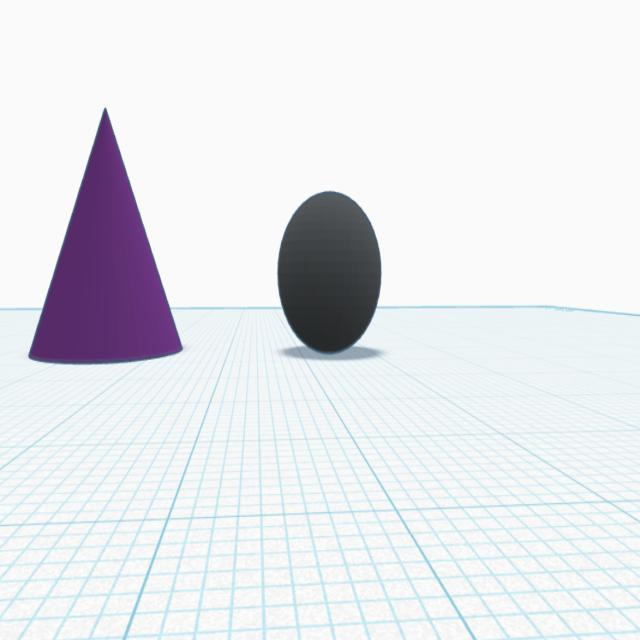cone: (21, 103, 186, 371)
sphere: (273, 184, 384, 358)
